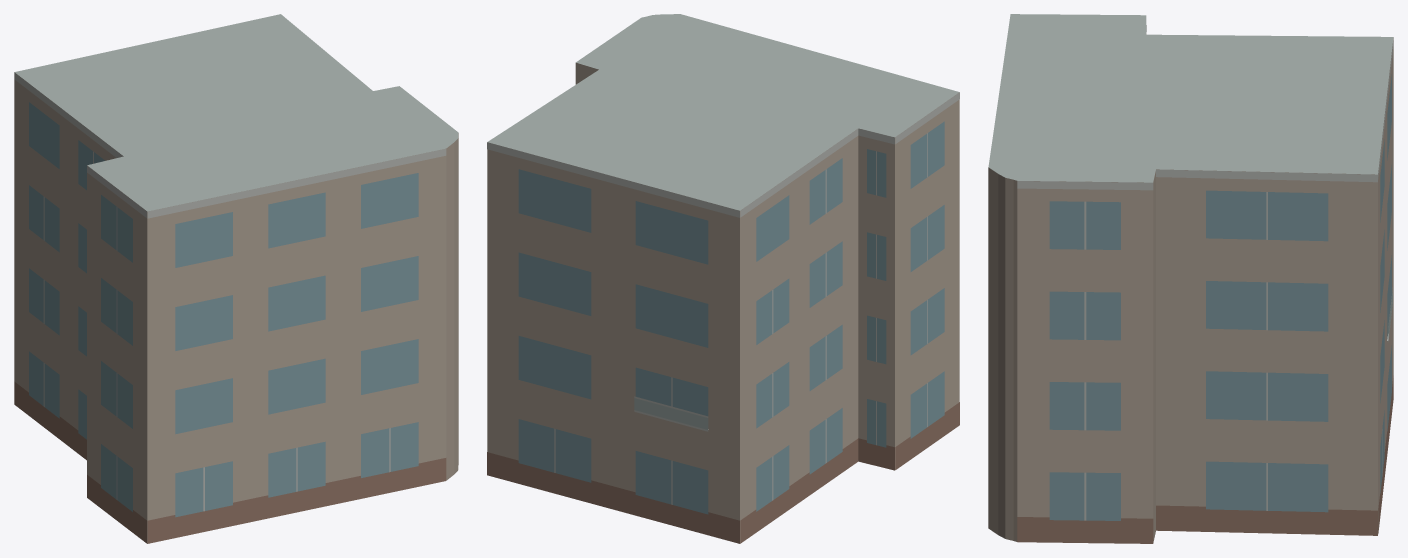
Rendered from survey-upis-32803802.glb.
The picture shows the model from 3 angles, left to right: view 1: azimuth 30°, elevation 25°; view 2: azimuth 150°, elevation 25°; view 3: azimuth 270°, elevation 25°; orthographic projection. The views are drawn at different scales.
Visible parts, largest first — view 1: survey-upis-32803802.tmp; view 2: survey-upis-32803802.tmp; view 3: survey-upis-32803802.tmp.
Part boxes in pixels (x1,y1,x2,y2): survey-upis-32803802.tmp: (14,14,458,543); survey-upis-32803802.tmp: (487,14,959,543); survey-upis-32803802.tmp: (988,14,1393,543).
Size of the model in its own units: 11.39 by 11.37 by 11.57.
